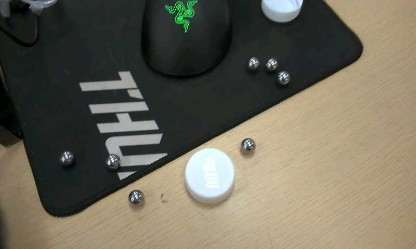ironball: (127, 189, 144, 206), (239, 137, 255, 154), (105, 153, 120, 170), (58, 150, 73, 166), (276, 70, 290, 85), (265, 57, 278, 71), (247, 56, 259, 70)
